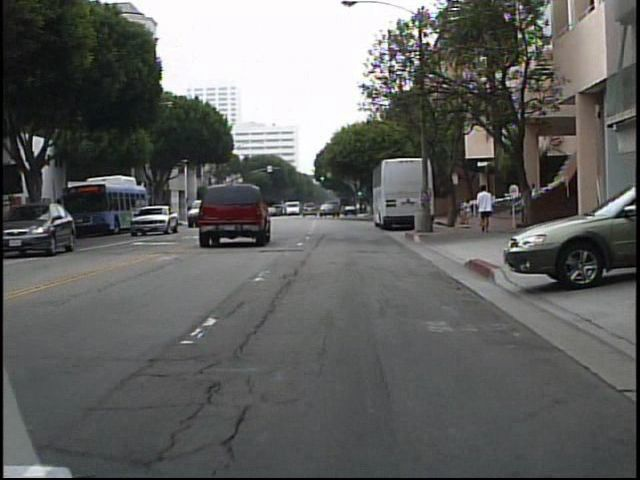person: (474, 184, 499, 238), (461, 196, 474, 225)
